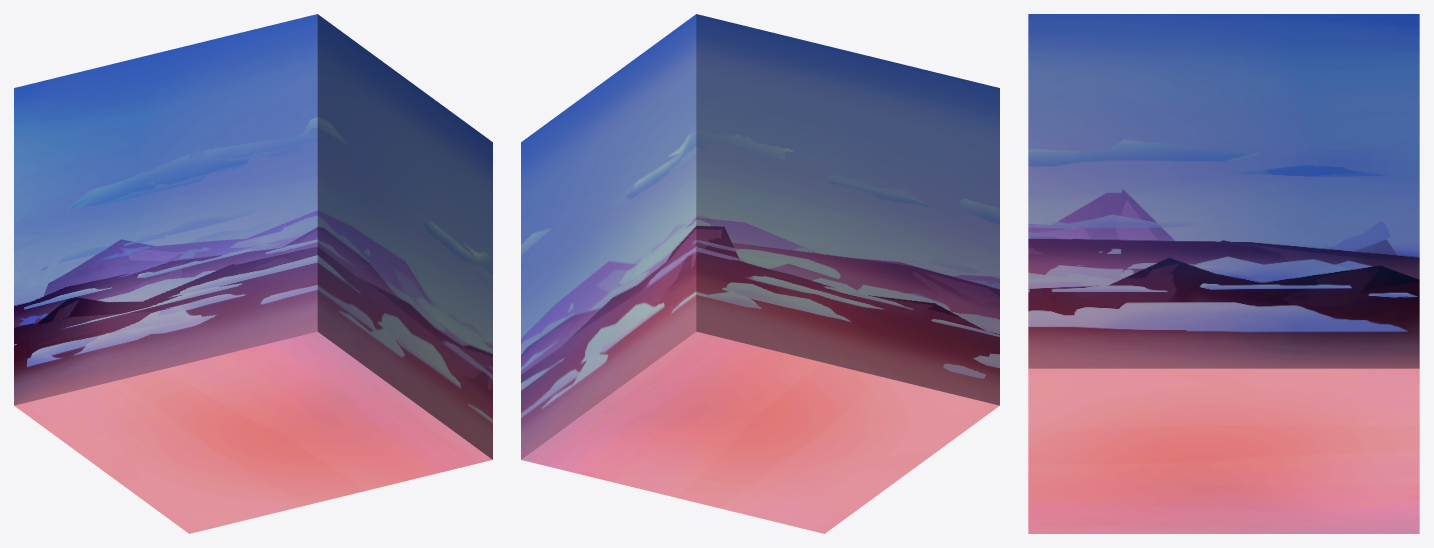
The model's file is mountain_skybox.gltf.
The picture shows the model from 3 angles, left to right: view 1: azimuth 30°, elevation 25°; view 2: azimuth 150°, elevation 25°; view 3: azimuth 270°, elevation 25°; orthographic projection. The views are drawn at different scales.
Visible parts, largest first — view 1: egypt_skybox_glb; view 2: egypt_skybox_glb; view 3: egypt_skybox_glb.
Part boxes in pixels (x1,y1,x2,y2): egypt_skybox_glb: (14,14,492,533); egypt_skybox_glb: (521,14,999,533); egypt_skybox_glb: (1028,14,1419,533).
Size of what is drawn, in the model's own units: 48 by 48 by 48.
1 material, 1 textured.
